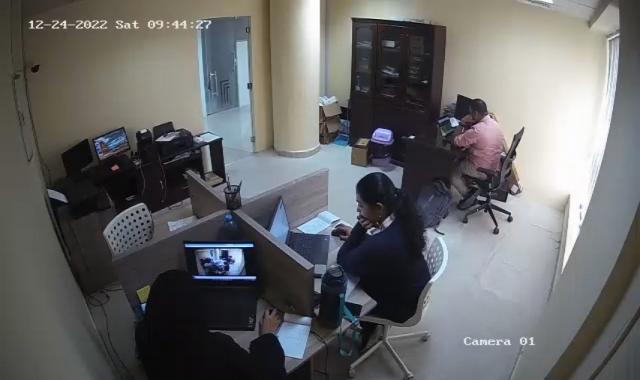no_hairnet: (146, 269, 204, 335), (355, 172, 397, 225), (466, 98, 488, 121)
